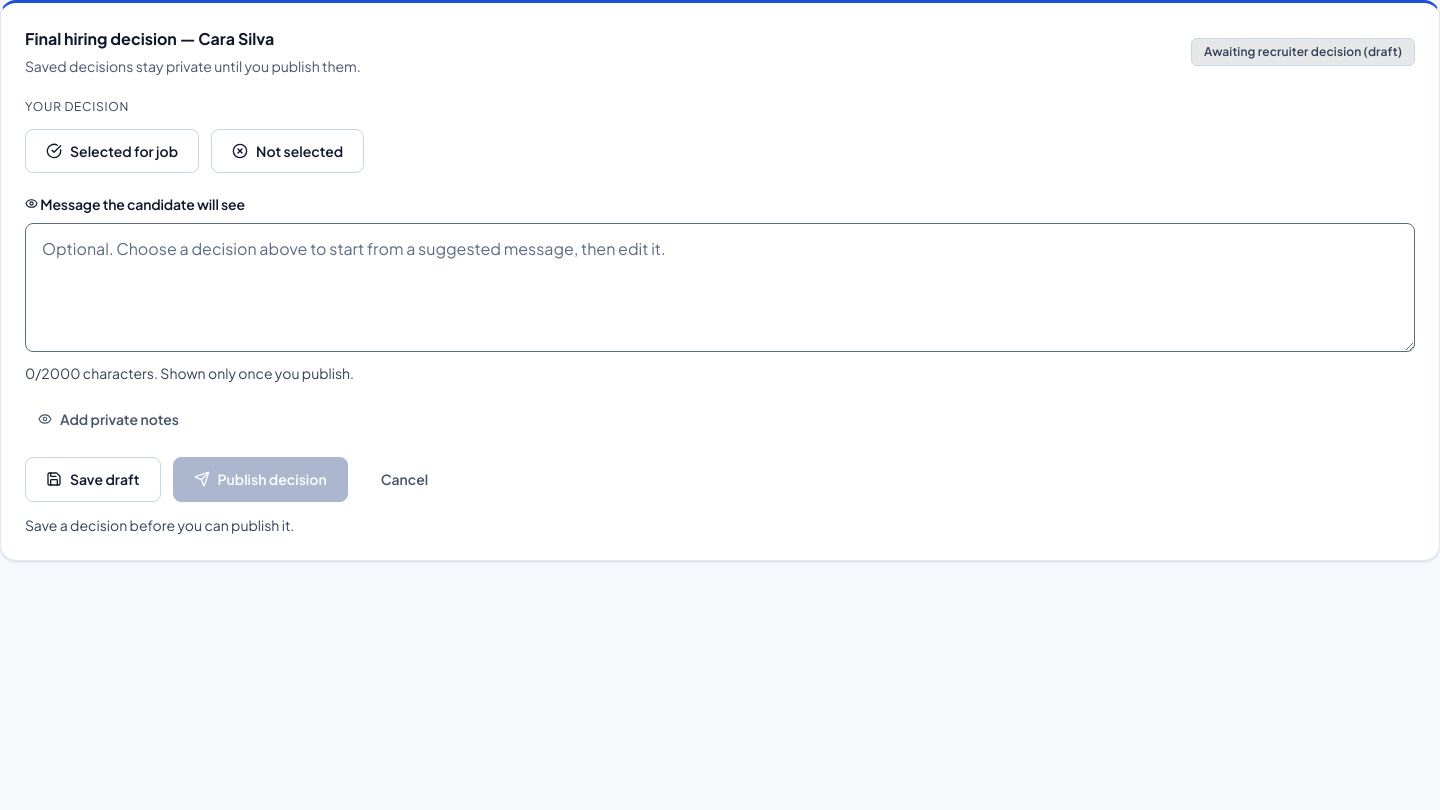
the notes field is separate from the candidate message
This screenshot has width=1440, height=810.
Click the button "Add private notes": (108, 419) [25,401,192,437]
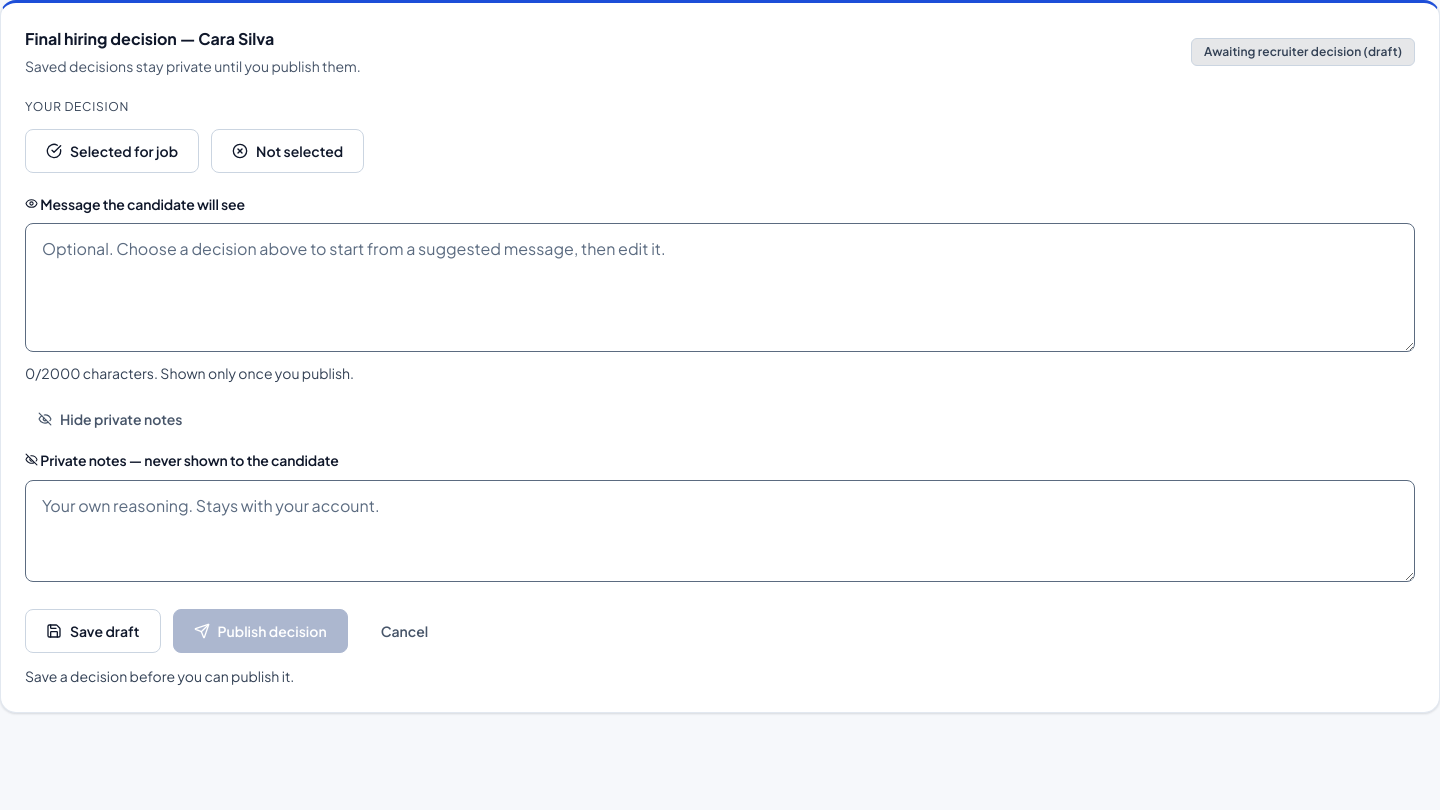
Now the text box with id "notes-77" is shown, box [25,480,1415,582]
